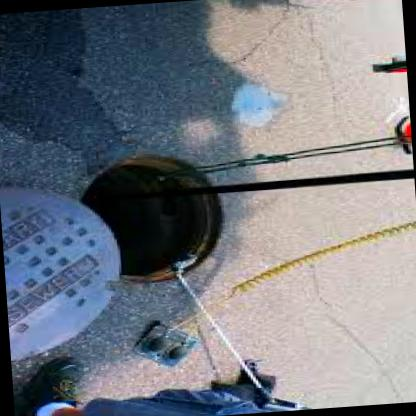manholes: (0, 83, 314, 366)
